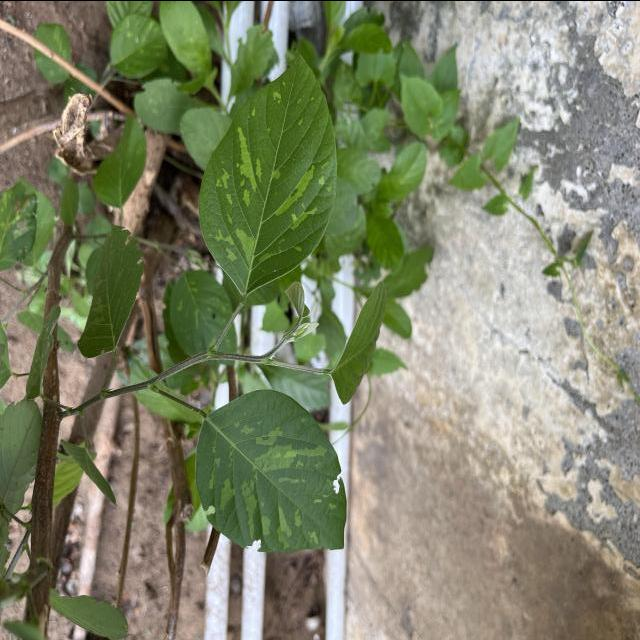Desmodium gangeticum: (196, 51, 341, 302), (193, 386, 349, 555)
